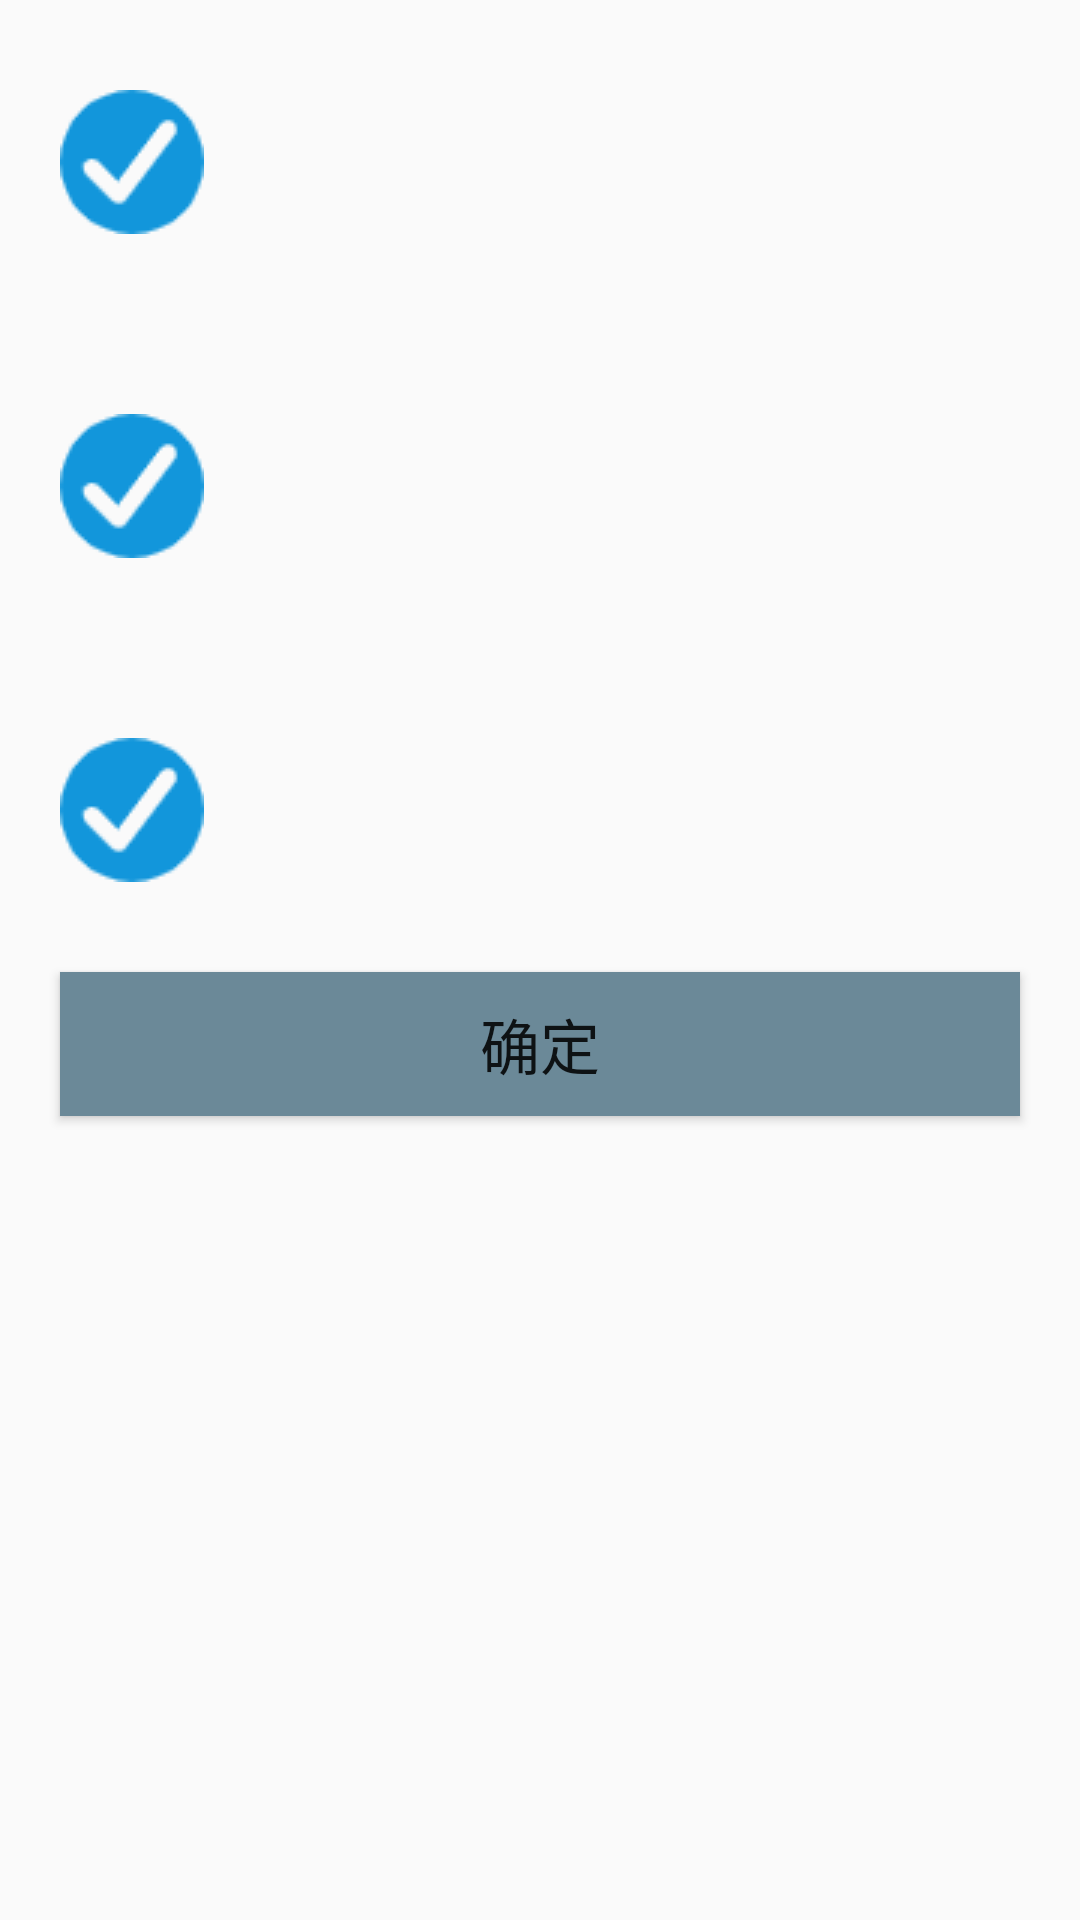

Screen size 1080w x 1920h. Icon name, then its box in pixels as (x1, y1, x2, y2):
selectionselector: (60, 90, 204, 234), (60, 414, 204, 558), (60, 738, 204, 882)
